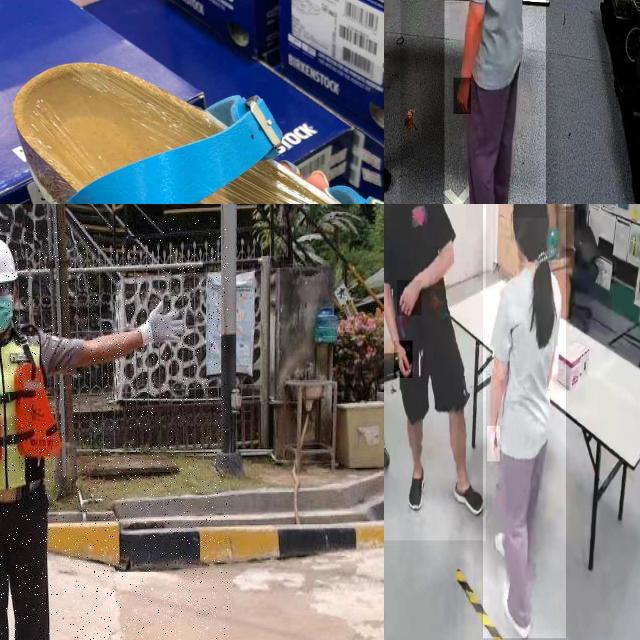Sandals: (0, 32, 384, 204)
hand_noglove: (397, 280, 422, 316), (394, 341, 413, 378), (454, 77, 472, 115), (487, 426, 501, 462)
head_helmet: (0, 235, 18, 294)
head_nohelmet: (512, 204, 547, 218)
person: (0, 217, 228, 640), (483, 204, 566, 639), (384, 204, 486, 541), (444, 0, 546, 204)
shoes: (450, 475, 485, 521), (408, 460, 426, 511)
vest: (0, 331, 61, 494)
